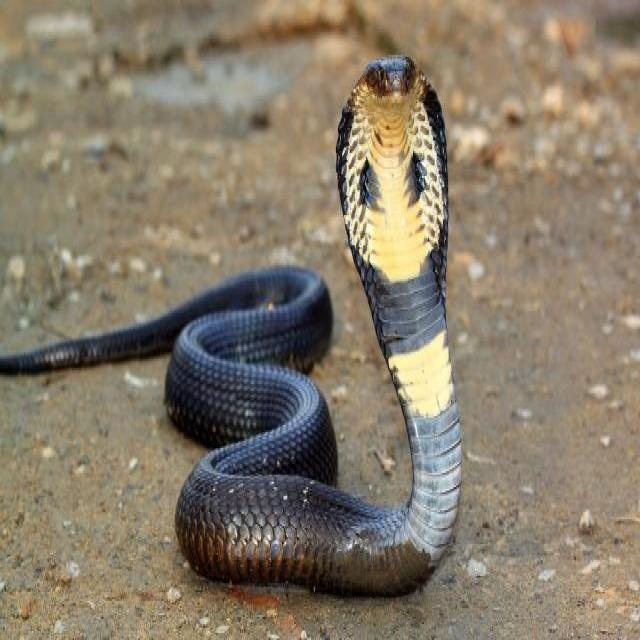Venomous: (335, 28, 467, 314)
